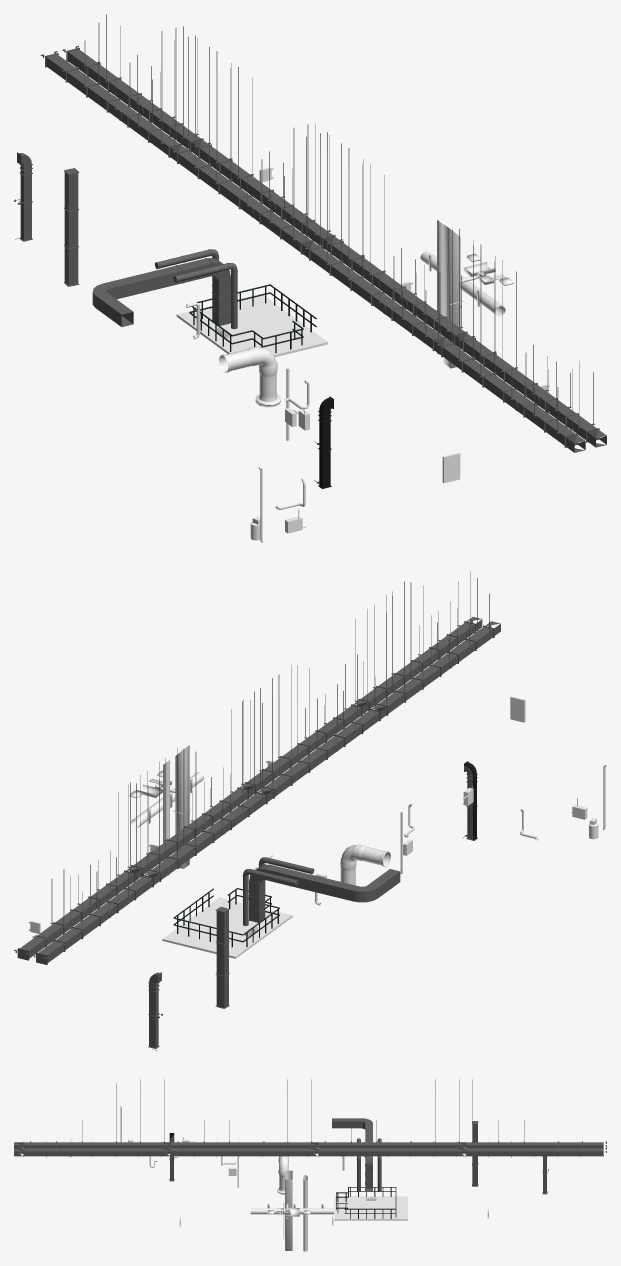
File: L1E1_SabitAssetler.fbx
The picture shows the model from 3 angles, top to bottom: view 1: azimuth 30°, elevation 25°; view 2: azimuth 150°, elevation 25°; view 3: azimuth 270°, elevation 25°; orthographic projection. The views are drawn at different scales.
Parts seen in each view (by area): view 1: pCube815_6, pCube815_7, Sabit Dekor, pared, pCube815_2, generic_lid6, pCube815_5, hydraulicpressStation, wall_door, pCube815, pCube815_3; view 2: pCube815_6, pCube815_7, Sabit Dekor, pCube815_2, pared, pCube815_5, generic_lid6, hydraulicpressStation, pCube815, wall_door, pCube815_4; view 3: pCube815_7, pCube815_6, Sabit Dekor, pared, pCube815_2, hydraulicpressStation, pCube815_5, generic_lid6.
Boxes of the visible parts, x1,y1,x2,y2 form: pCube815_6: (40, 22, 585, 452); pCube815_7: (62, 14, 606, 447); Sabit Dekor: (176, 293, 327, 357); pared: (419, 220, 513, 368); pCube815_2: (92, 258, 230, 326); generic_lid6: (219, 347, 280, 407); pCube815_5: (64, 168, 79, 286); hydraulicpressStation: (189, 284, 316, 352); wall_door: (314, 396, 333, 488); pCube815: (14, 152, 32, 241); pCube815_3: (173, 263, 237, 329); pCube815_6: (32, 578, 500, 964); pCube815_7: (14, 571, 482, 960); Sabit Dekor: (162, 897, 292, 958); pCube815_2: (248, 864, 400, 922); pared: (129, 745, 204, 875); pCube815_5: (215, 906, 229, 1008); generic_lid6: (340, 844, 390, 885); hydraulicpressStation: (173, 888, 279, 947); pCube815: (148, 972, 162, 1050); wall_door: (463, 761, 477, 840); pCube815_4: (242, 867, 298, 925); pCube815_7: (14, 1086, 606, 1157); pCube815_6: (14, 1079, 606, 1148); Sabit Dekor: (334, 1196, 407, 1220); pared: (250, 1170, 333, 1251); pCube815_2: (332, 1118, 372, 1191); hydraulicpressStation: (336, 1187, 396, 1218); pCube815_5: (472, 1121, 478, 1186); generic_lid6: (277, 1156, 288, 1194).
Bounding box in the file's own units: 12.96 × 7.79 × 30.76.
5 materials, 2 textured.
